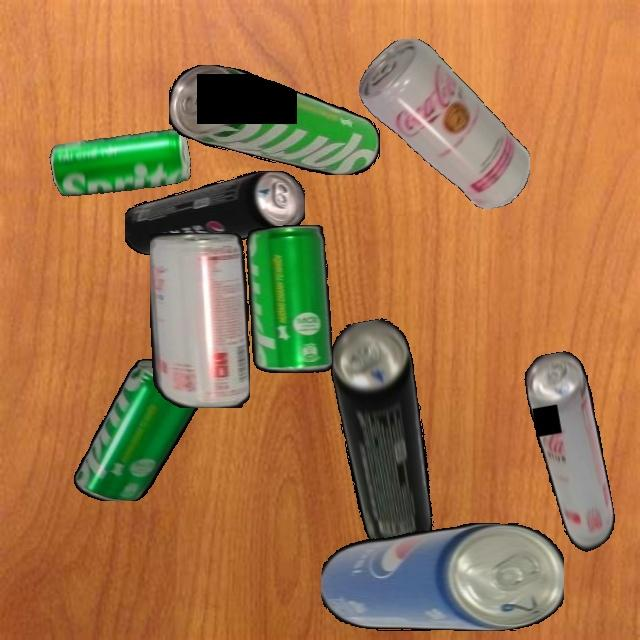debris: (324, 315, 445, 560), (358, 39, 530, 209), (320, 523, 564, 631), (169, 64, 380, 175), (521, 348, 620, 559), (74, 358, 207, 501), (149, 233, 250, 408), (124, 171, 305, 255), (245, 225, 332, 373), (48, 122, 194, 204)
